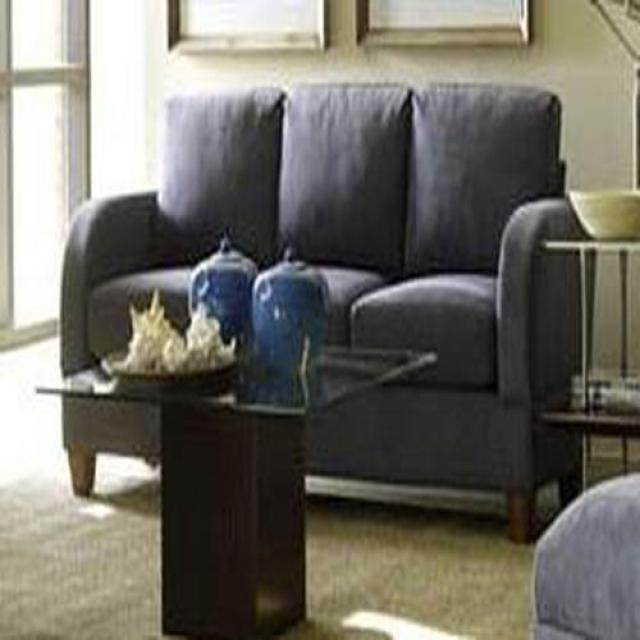sofa: (59, 83, 582, 545)
